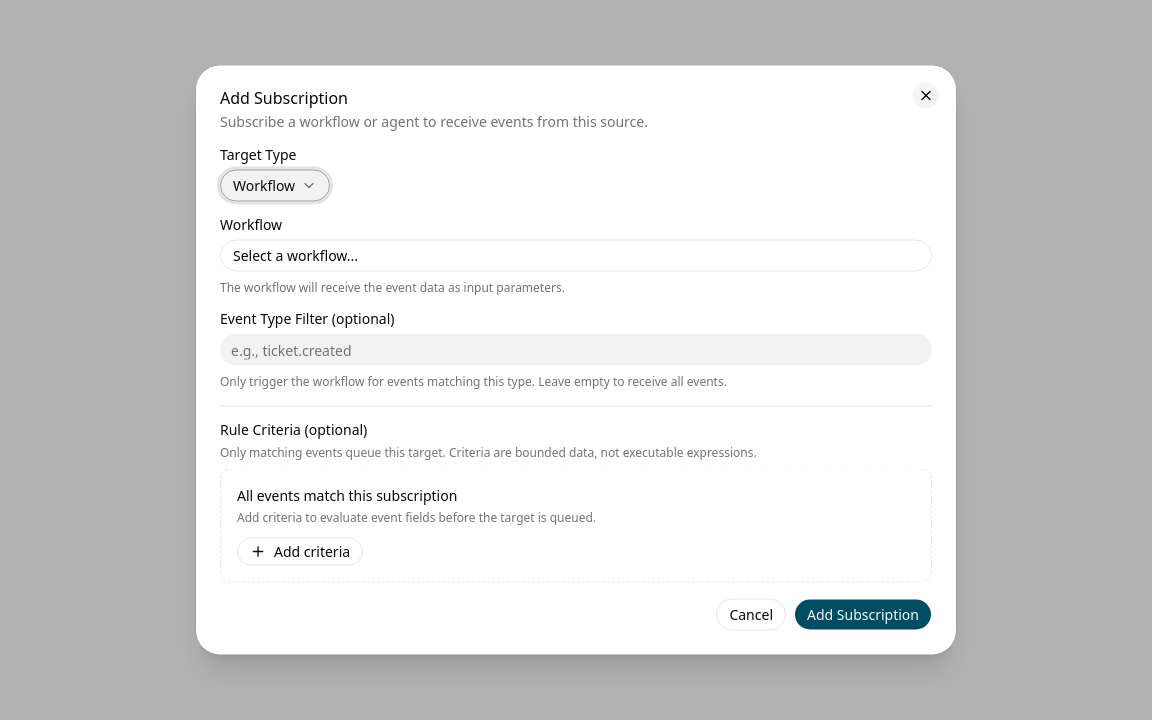
Test: CreateSubscriptionDialog — workflow target › requires a workflow selection
Click the button "Add Subscription": (863,614) [794,598,932,630]
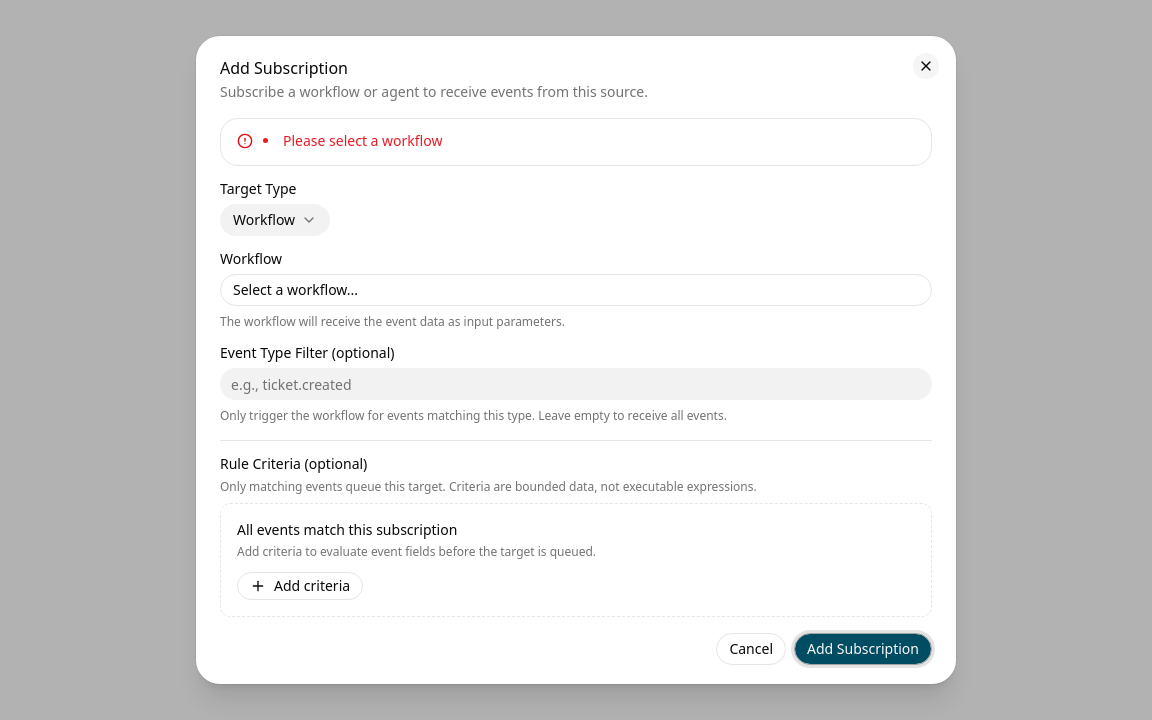
Result: the message reads "Please select a workflow" at [283,131,442,150]
